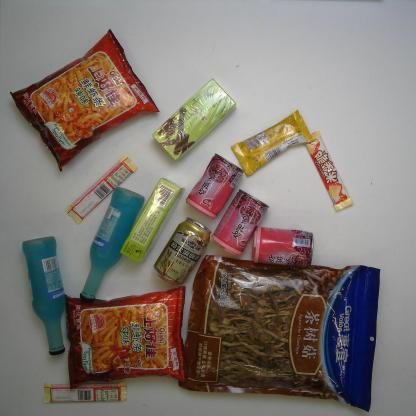Alcohol: (79, 185, 145, 304), (22, 235, 67, 356), (153, 216, 212, 286)
Canned Food: (186, 151, 247, 219), (212, 191, 271, 257), (250, 224, 314, 268)
Chocolate: (229, 109, 315, 177), (63, 155, 138, 226), (304, 128, 354, 212), (42, 382, 128, 403)
Dried Food: (178, 254, 381, 414)
Instant Drink: (151, 77, 239, 164), (118, 177, 186, 265)
Puffed Food: (9, 27, 161, 174), (64, 284, 189, 390)
